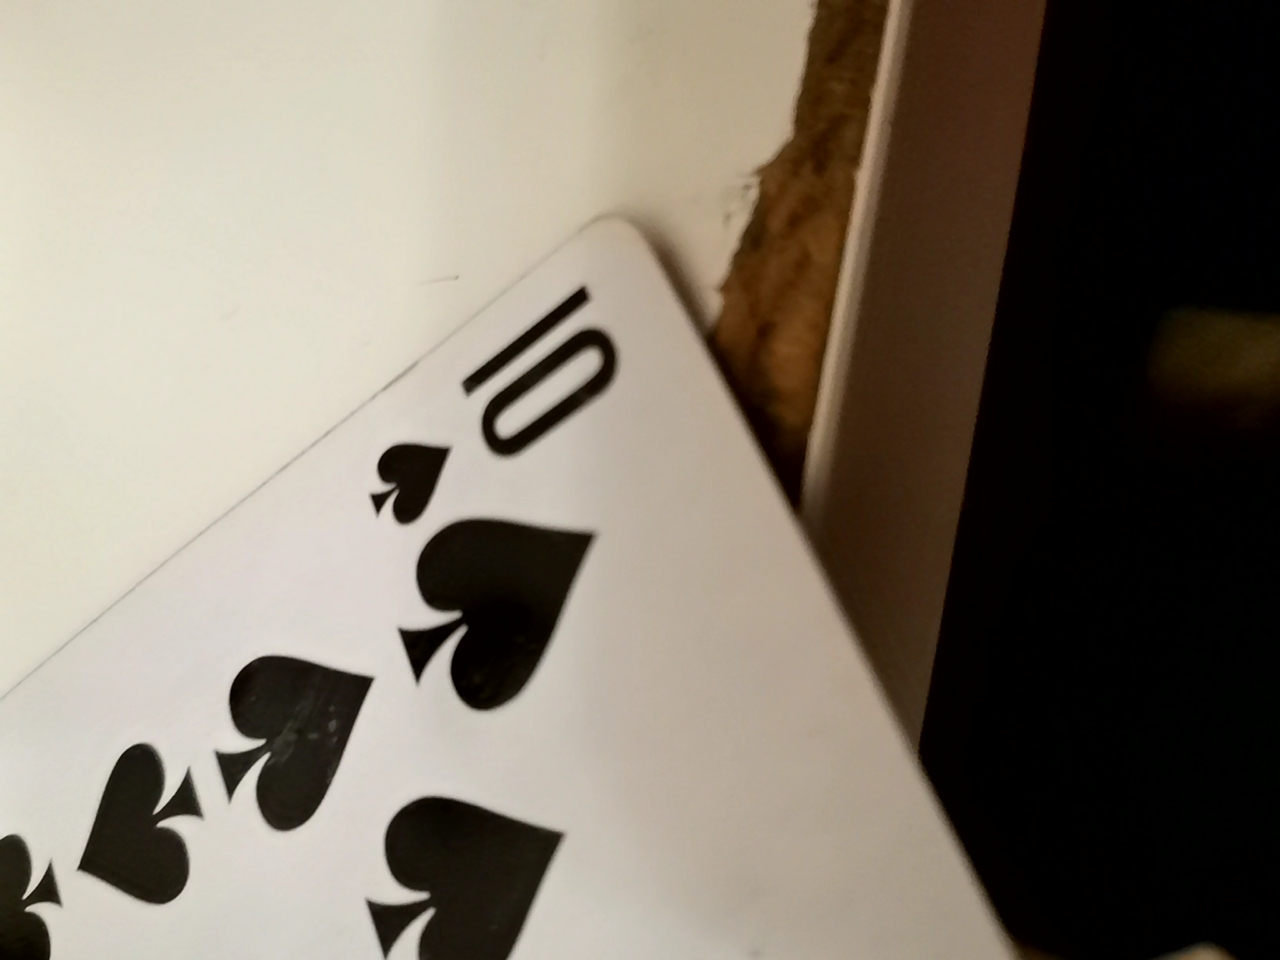ht 10: (0, 218, 1063, 959)
